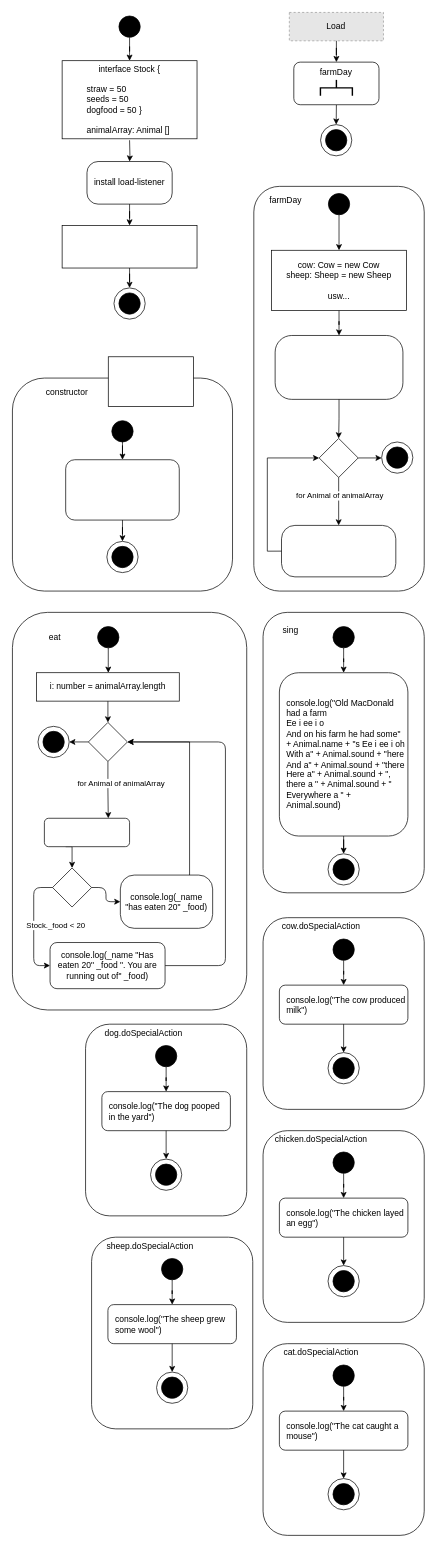
The diagram is 437 pixels wide and 1548 high, and some of its shapes have lost their labels. Grey dashed boxes stand in for pictures. Here are the shapes that lost their labels. From the top down, the centre of each, then its label:
pixel 129 246: class Animal (erstelle Attribute & Methoden)
pixel 150 381: _name: string _type: string _sound: string _food: string
pixel 338 367: animalArray.push(cow) animalArray.push(sheep) usw...
pixel 122 489: this.name = _name this.type = _type this.sound = _sound this.food = _food
pixel 338 551: Animal.eat(); Animal.sing(): Animal.doSpecialAction();
pixel 87 832: Stock._food - 20
